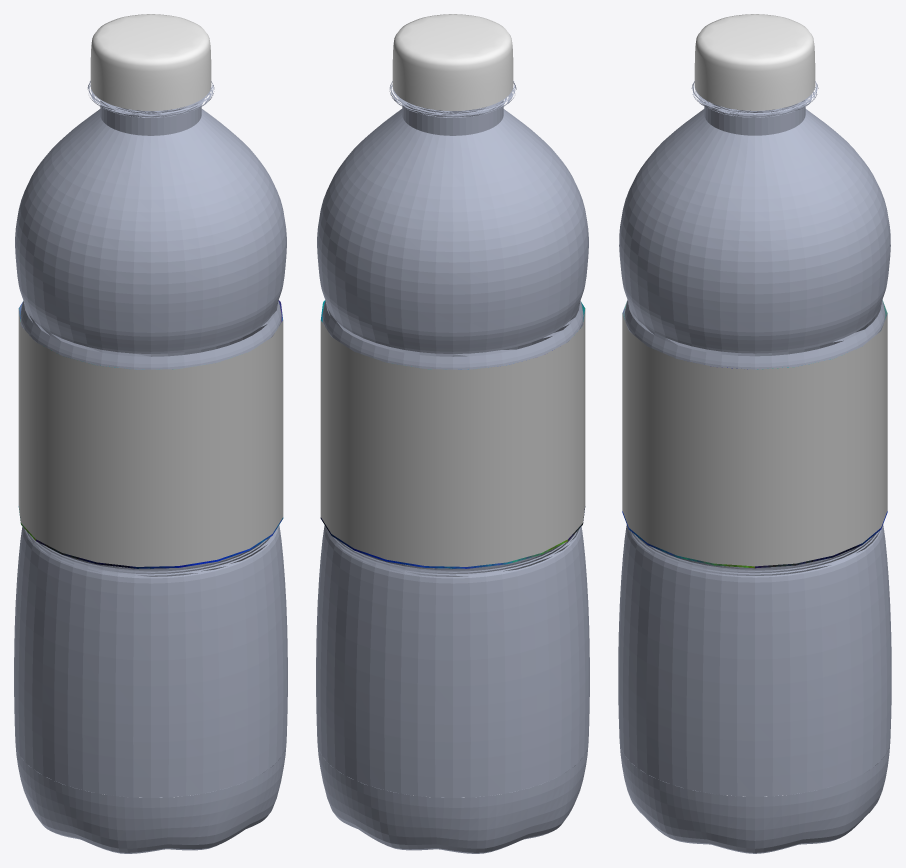
File: BottleRigid.fbx
The picture shows the model from 3 angles, left to right: view 1: azimuth 30°, elevation 25°; view 2: azimuth 150°, elevation 25°; view 3: azimuth 270°, elevation 25°; orthographic projection.
Parts seen in each view (by area): view 1: Bottle, MarkInner, Cap, Mark; view 2: Bottle, MarkInner, Cap, Mark; view 3: Bottle, MarkInner, Cap, Mark.
Part boxes in pixels (x1,y1,x2,y2): Bottle: [14, 81, 287, 853]; MarkInner: [18, 309, 283, 566]; Cap: [90, 14, 211, 110]; Mark: [18, 300, 283, 568]; Bottle: [316, 81, 589, 853]; MarkInner: [320, 309, 585, 566]; Cap: [392, 14, 513, 110]; Mark: [320, 300, 585, 568]; Bottle: [618, 81, 891, 853]; MarkInner: [622, 314, 887, 566]; Cap: [694, 14, 815, 110]; Mark: [622, 300, 887, 568].
Bounding box in the file's own units: 4.9 × 15.37 × 4.9.
